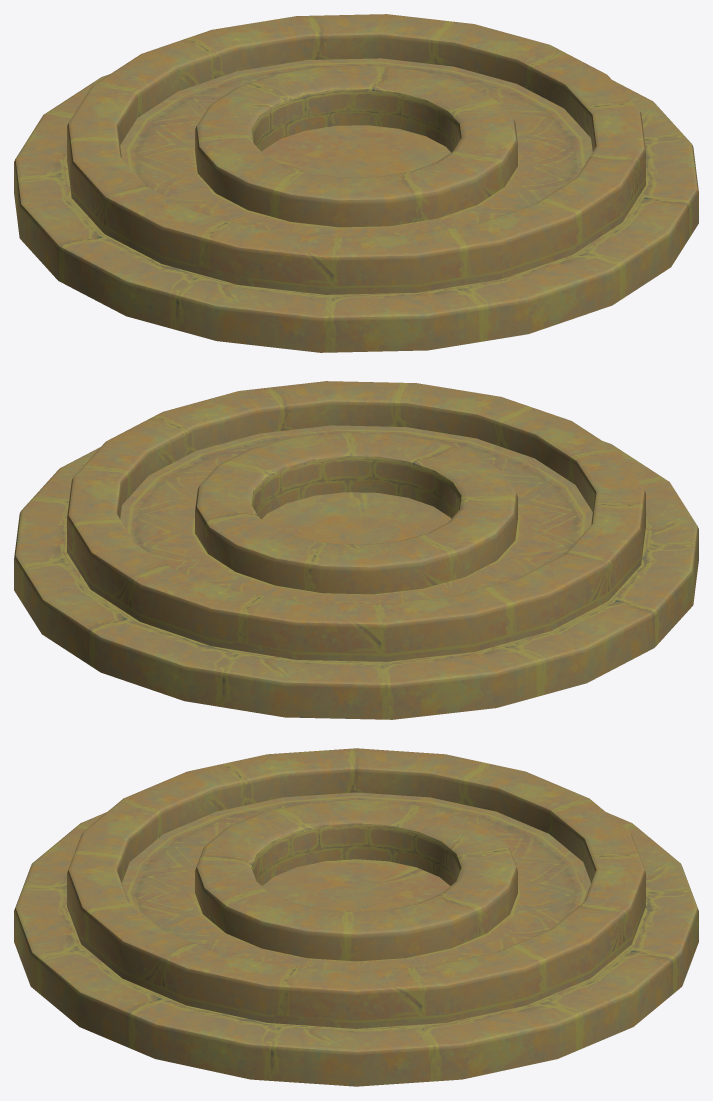
The model's file is cristolbase.fbx.
3 views of the same model, one above another, from view 1: azimuth 30°, elevation 25°; view 2: azimuth 150°, elevation 25°; view 3: azimuth 270°, elevation 25° (orthographic).
Visible parts, largest first — view 1: pCylinder1; view 2: pCylinder1; view 3: pCylinder1.
Part boxes in pixels (<box>): pCylinder1: <box>14,14,698,352</box>; pCylinder1: <box>14,381,698,719</box>; pCylinder1: <box>14,748,698,1086</box>.
Bounding box in the file's own units: 277 × 34.18 × 277.
